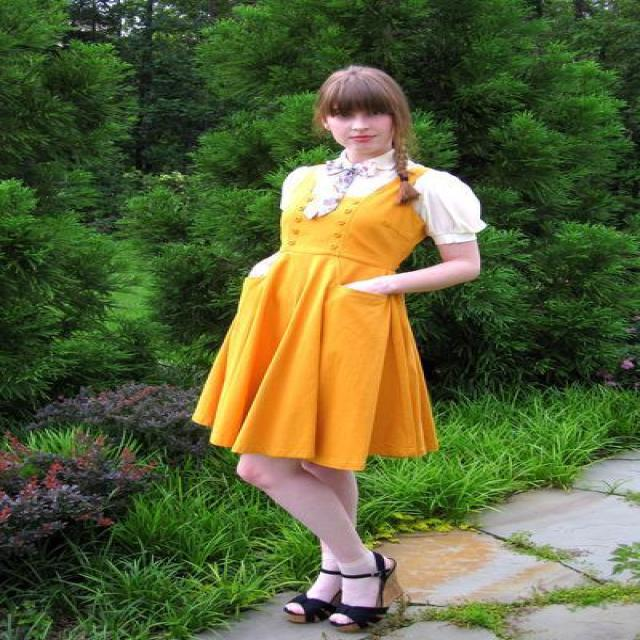dress: (192, 168, 437, 472)
shirt: (291, 152, 485, 242)
shoe: (288, 589, 402, 639)
